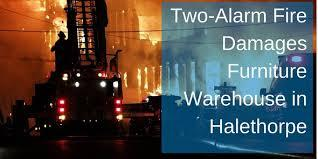fire: (0, 1, 170, 110)
